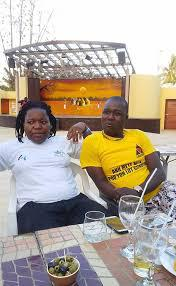Person: (1, 101, 113, 233), (80, 95, 166, 214)
